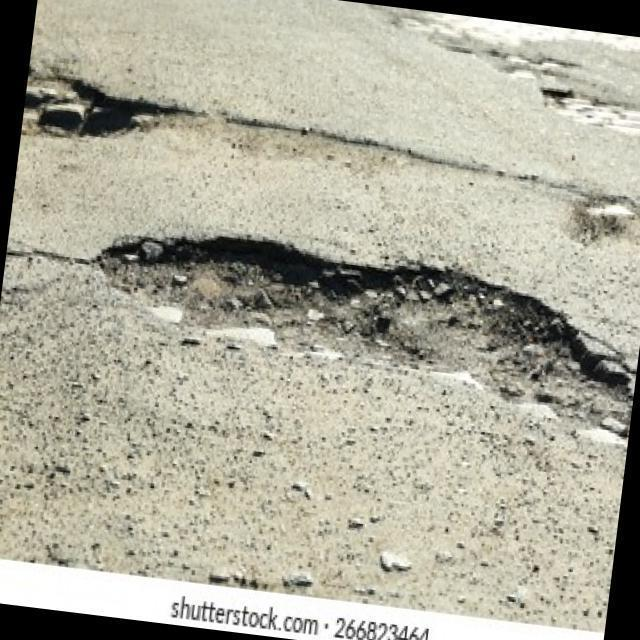pothole: (80, 216, 640, 440), (20, 59, 158, 155), (536, 84, 640, 139), (561, 201, 628, 253), (501, 50, 582, 75), (506, 63, 540, 82), (394, 15, 427, 29), (634, 191, 640, 244)
